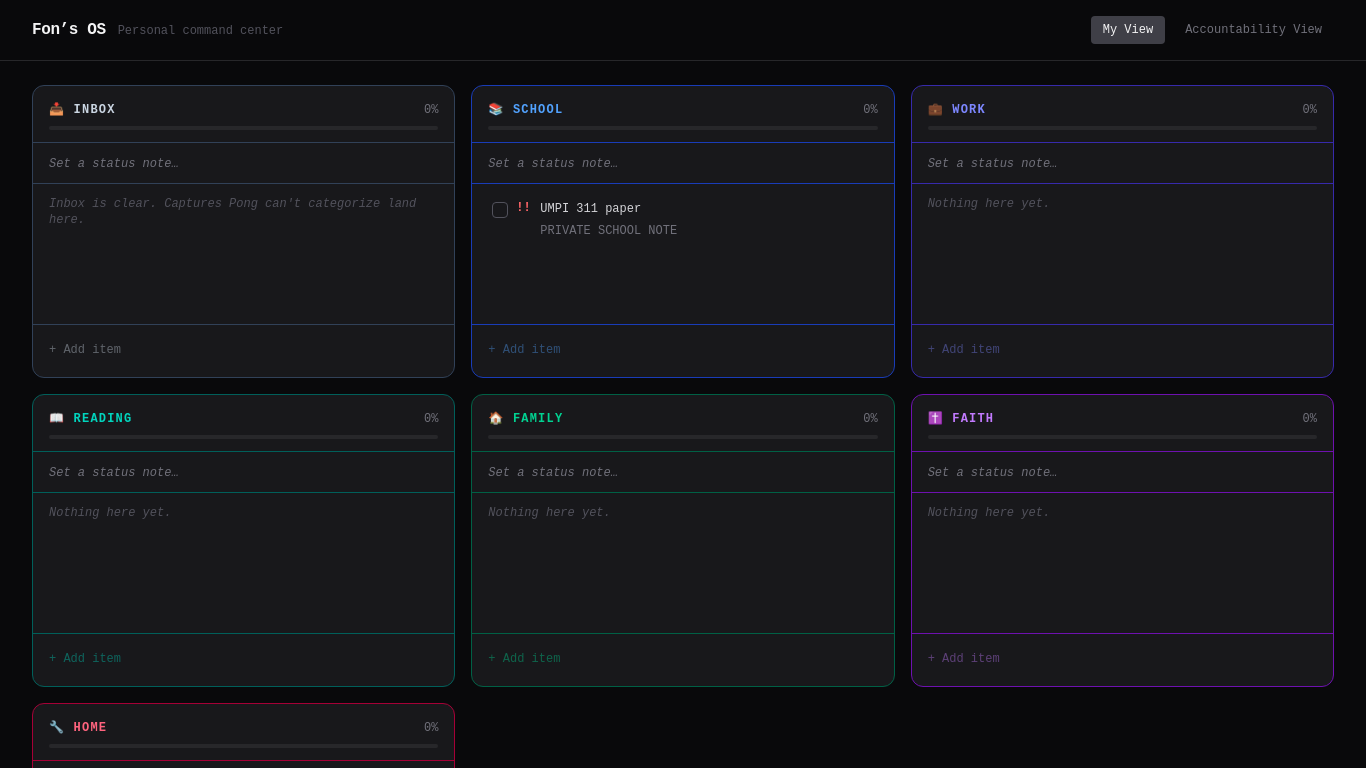
Accountability View › hides private task notes on the school items it does show
The image size is (1366, 768).
Click the button "Accountability View": (1254, 30) [1173, 16, 1334, 44]
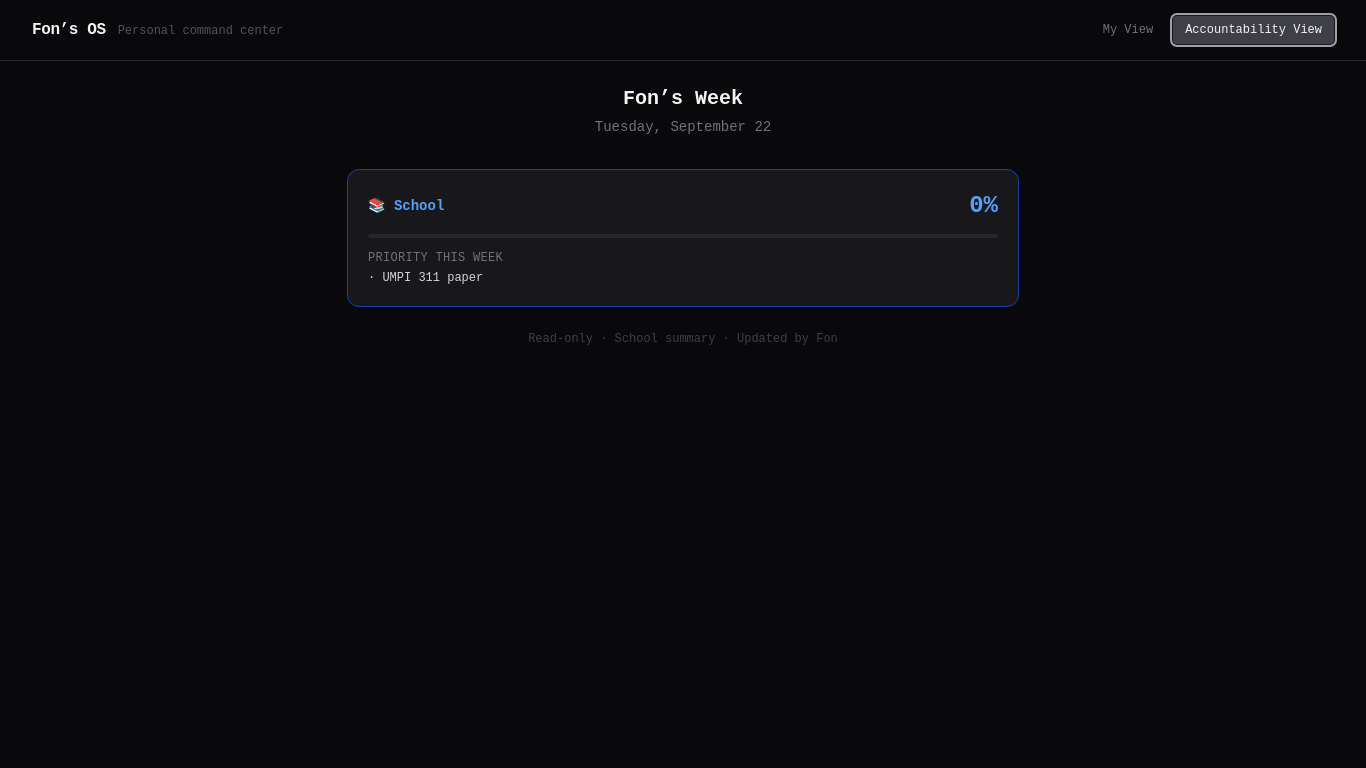
Check: the text "· UMPI 311 paper" is shown, box [368, 271, 483, 285]
Check: the button "PRIVATE SCHOOL NOTE" is gone
